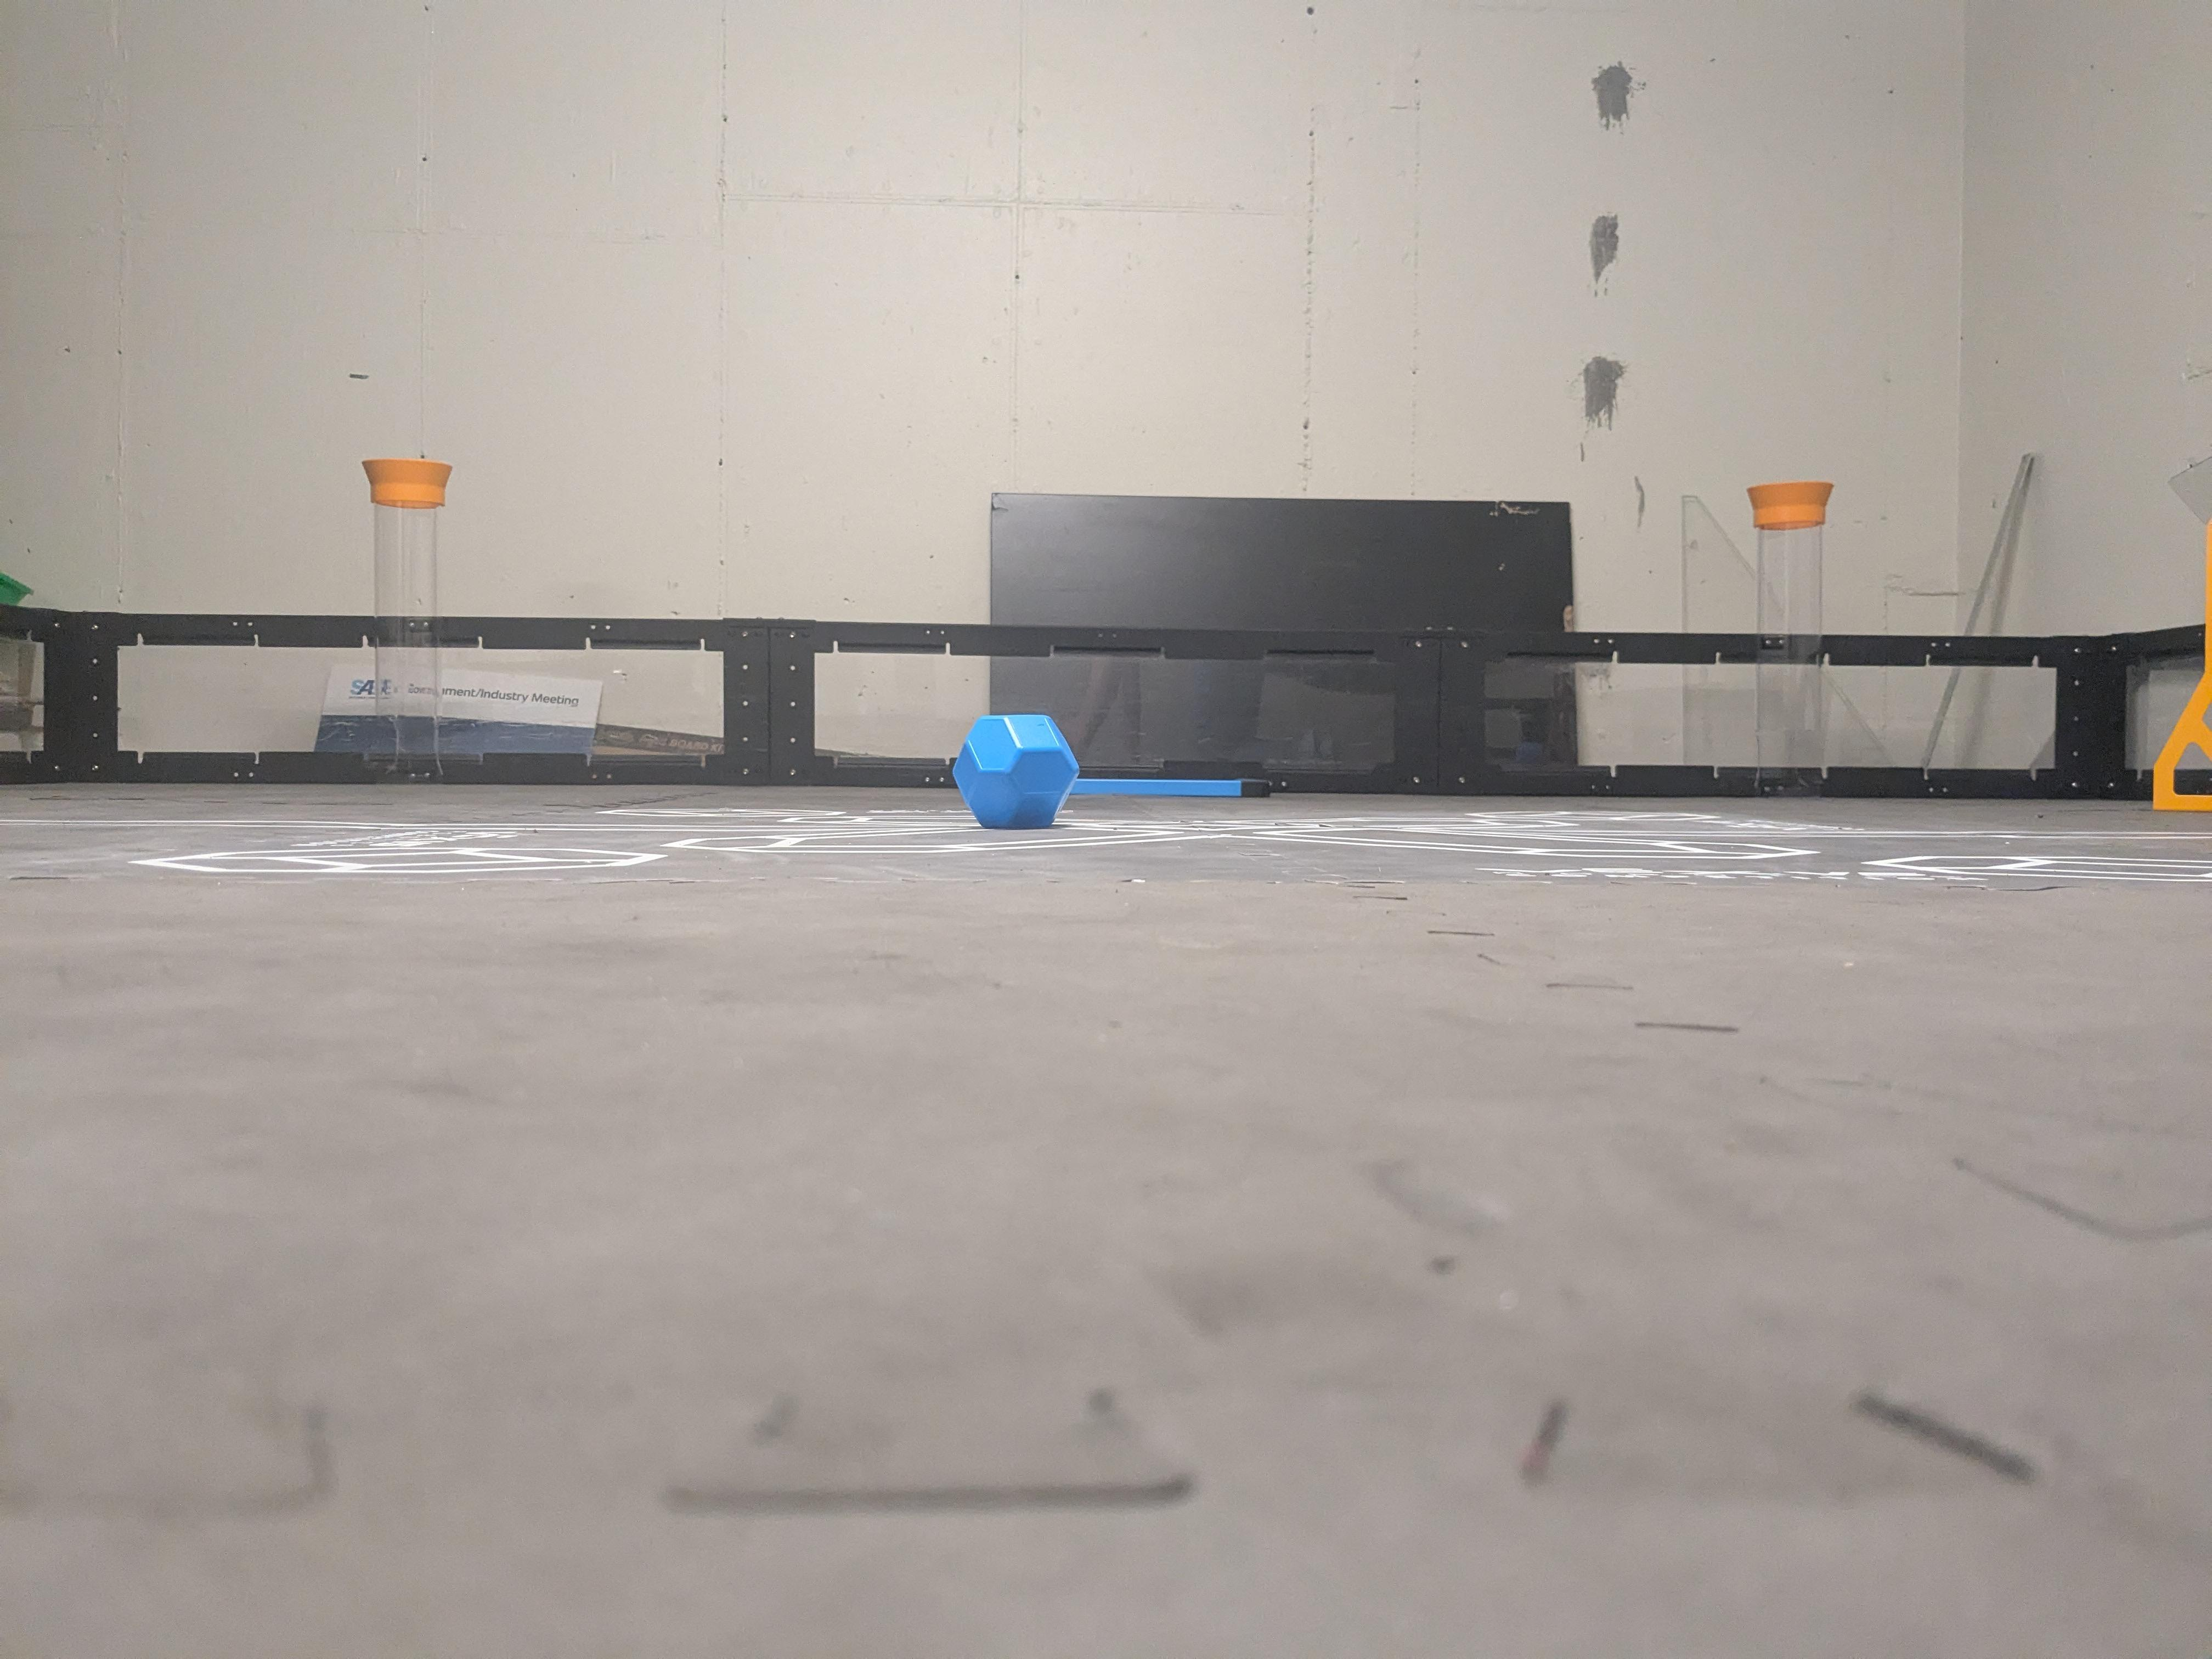Vex-Pieces-BLUE: (949, 716, 1071, 826)
